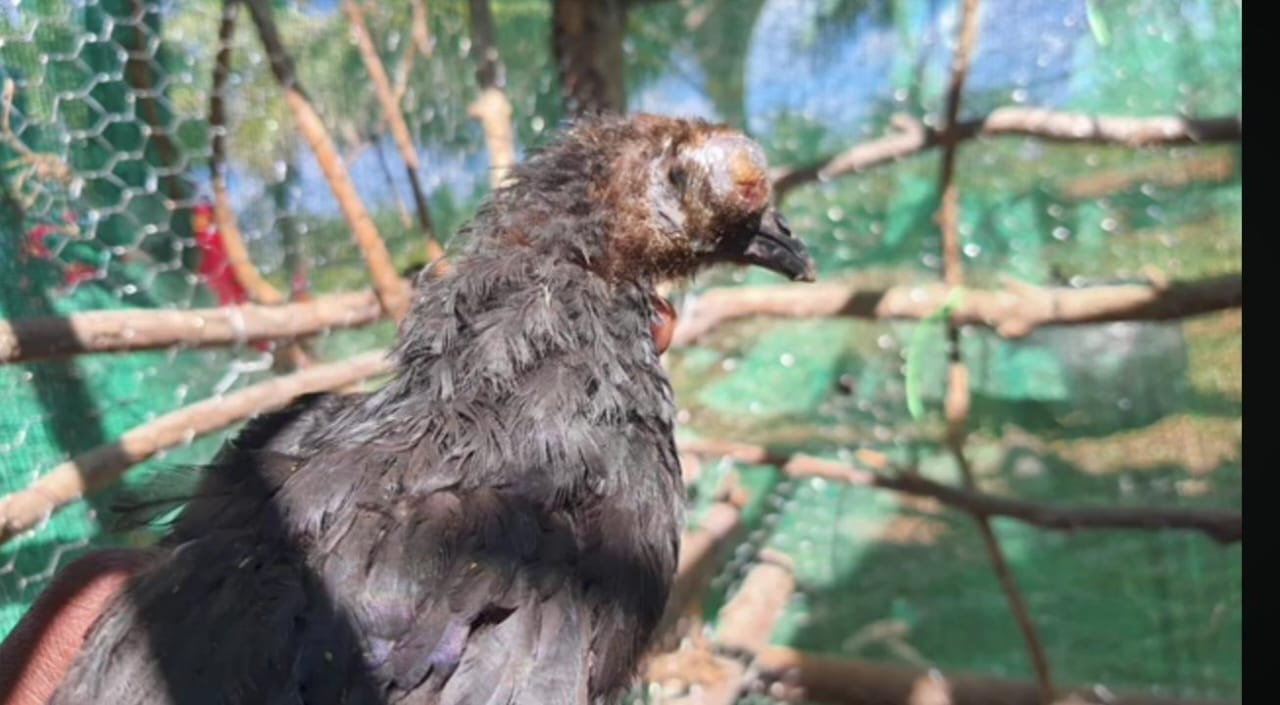Unhealthy: (63, 85, 827, 700)
